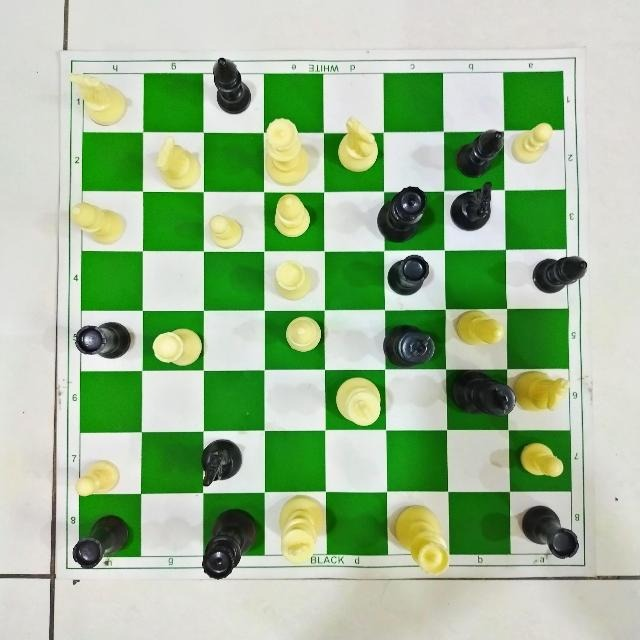black-bishop: (205, 53, 258, 120), (525, 247, 589, 295), (450, 120, 505, 175)
black-king: (450, 366, 519, 424), (377, 308, 442, 368)
black-knight: (194, 433, 254, 490), (450, 179, 498, 236)
black-queen: (203, 508, 258, 580), (374, 183, 436, 243)
black-rook: (517, 494, 589, 560), (71, 511, 130, 568), (68, 313, 132, 359), (386, 249, 434, 299)
white-bishop: (67, 193, 125, 248), (450, 299, 507, 351), (266, 190, 318, 243), (273, 310, 323, 358)
white-king: (273, 488, 335, 566), (329, 374, 387, 434)
white-knight: (328, 110, 383, 186), (67, 67, 131, 127), (146, 136, 205, 191), (513, 364, 566, 420)
white-pawn: (72, 452, 127, 502), (517, 438, 569, 486), (511, 120, 556, 163), (205, 209, 244, 248)
white-queen: (388, 492, 460, 580), (262, 116, 314, 186)
white-rook: (148, 320, 203, 370), (268, 258, 316, 302)
